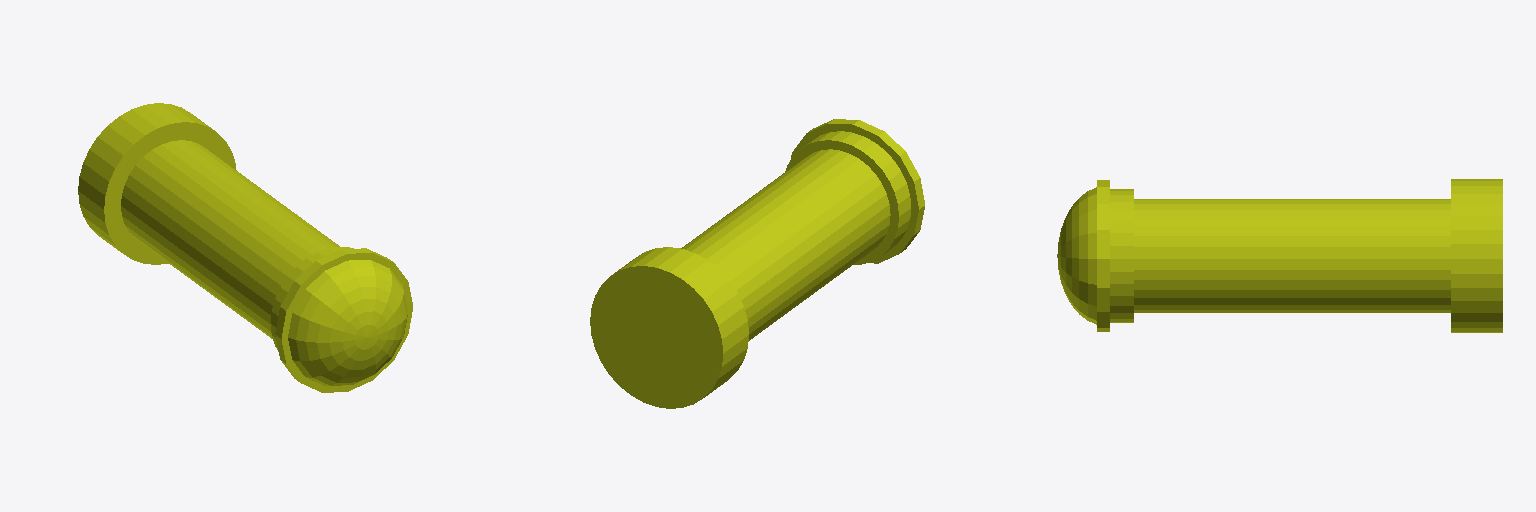
Rendered from bombeoAmarillo.obj.
The picture shows the model from 3 angles: view 1: azimuth 30°, elevation 25°; view 2: azimuth 150°, elevation 25°; view 3: azimuth 270°, elevation 25°; orthographic projection.
Visible parts, largest first — view 1: Cylinder.001, Sphere_Sphere.001; view 2: Cylinder.001, Sphere_Sphere.001; view 3: Cylinder.001, Sphere_Sphere.001.
Part boxes in pixels (x1,y1,x2,y2): Cylinder.001: (78,103,353,351); Sphere_Sphere.001: (275,248,412,392); Cylinder.001: (590,131,910,408); Sphere_Sphere.001: (791,119,924,263); Cylinder.001: (1110,179,1502,332); Sphere_Sphere.001: (1057,180,1109,331).
Bounding box in the file's own units: 2.92 × 2.92 × 8.46.